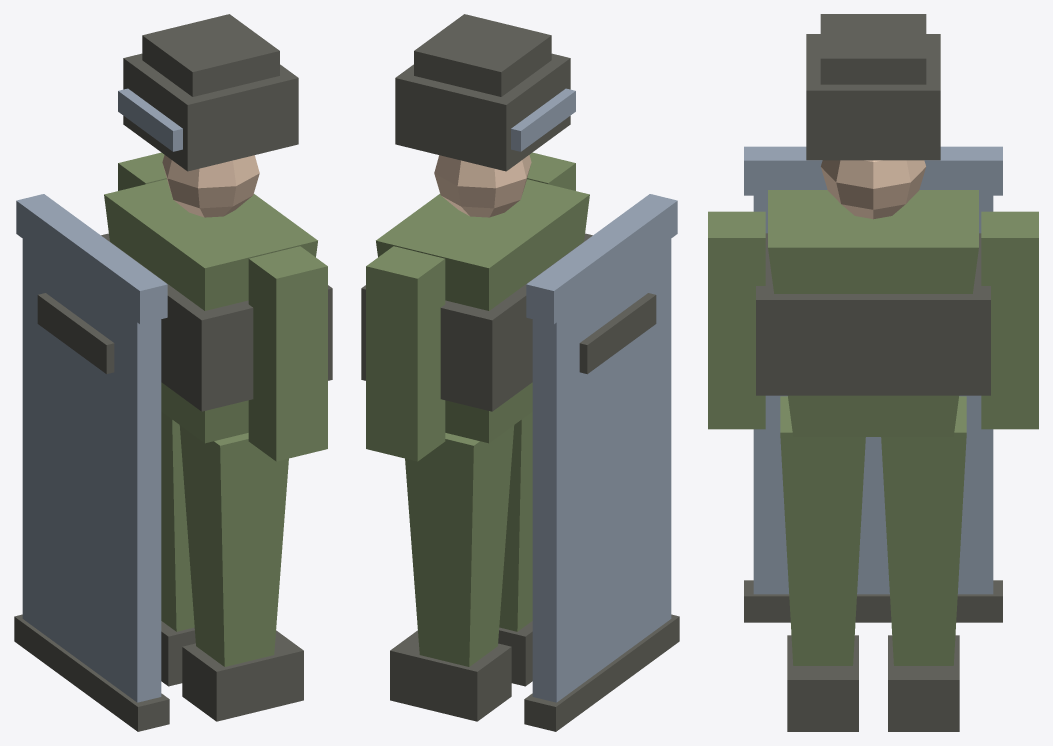
The model's file is unit_shield.glb.
The picture shows the model from 3 angles, left to right: view 1: azimuth 30°, elevation 25°; view 2: azimuth 150°, elevation 25°; view 3: azimuth 270°, elevation 25°; orthographic projection. The views are drawn at different scales.
Visible parts, largest first — view 1: trim_upper_ShieldBearer, ShieldBearer, accent_upper_ShieldBearer, upper_ShieldBearer, accent_ShieldBearer, skin_upper_ShieldBearer; view 2: trim_upper_ShieldBearer, ShieldBearer, accent_upper_ShieldBearer, upper_ShieldBearer, accent_ShieldBearer, skin_upper_ShieldBearer; view 3: ShieldBearer, accent_upper_ShieldBearer, upper_ShieldBearer, trim_upper_ShieldBearer, accent_ShieldBearer, skin_upper_ShieldBearer.
Boxes of the visible parts, x1=… form: trim_upper_ShieldBearer: x1=16, y1=88, x2=182, y2=702; ShieldBearer: x1=104, y1=179, x2=317, y2=666; accent_upper_ShieldBearer: x1=14, y1=14, x2=332, y2=731; upper_ShieldBearer: x1=118, y1=152, x2=327, y2=461; accent_ShieldBearer: x1=161, y1=621, x2=303, y2=721; skin_upper_ShieldBearer: x1=162, y1=155, x2=259, y2=217; trim_upper_ShieldBearer: x1=511, y1=88, x2=677, y2=702; ShieldBearer: x1=376, y1=179, x2=589, y2=666; accent_upper_ShieldBearer: x1=361, y1=14, x2=679, y2=731; upper_ShieldBearer: x1=366, y1=152, x2=575, y2=461; accent_ShieldBearer: x1=390, y1=621, x2=532, y2=721; skin_upper_ShieldBearer: x1=434, y1=155, x2=531, y2=217; ShieldBearer: x1=768, y1=190, x2=978, y2=665; accent_upper_ShieldBearer: x1=744, y1=14, x2=1002, y2=622; upper_ShieldBearer: x1=708, y1=211, x2=1038, y2=429; trim_upper_ShieldBearer: x1=744, y1=146, x2=1002, y2=594; accent_ShieldBearer: x1=787, y1=635, x2=959, y2=731; skin_upper_ShieldBearer: x1=820, y1=160, x2=926, y2=219.
Bounding box in the file's own units: 0.515 × 1.54 × 0.69.
